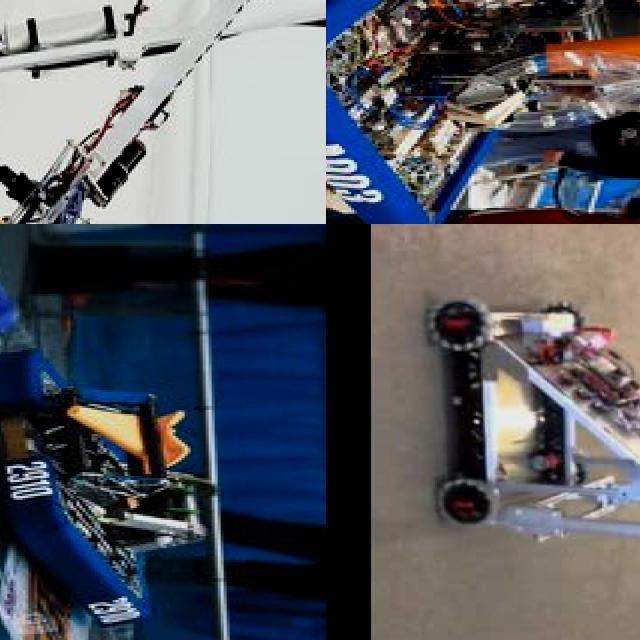FRC-Robots: (0, 0, 326, 224), (414, 283, 640, 603), (326, 0, 640, 224), (0, 347, 225, 623)
